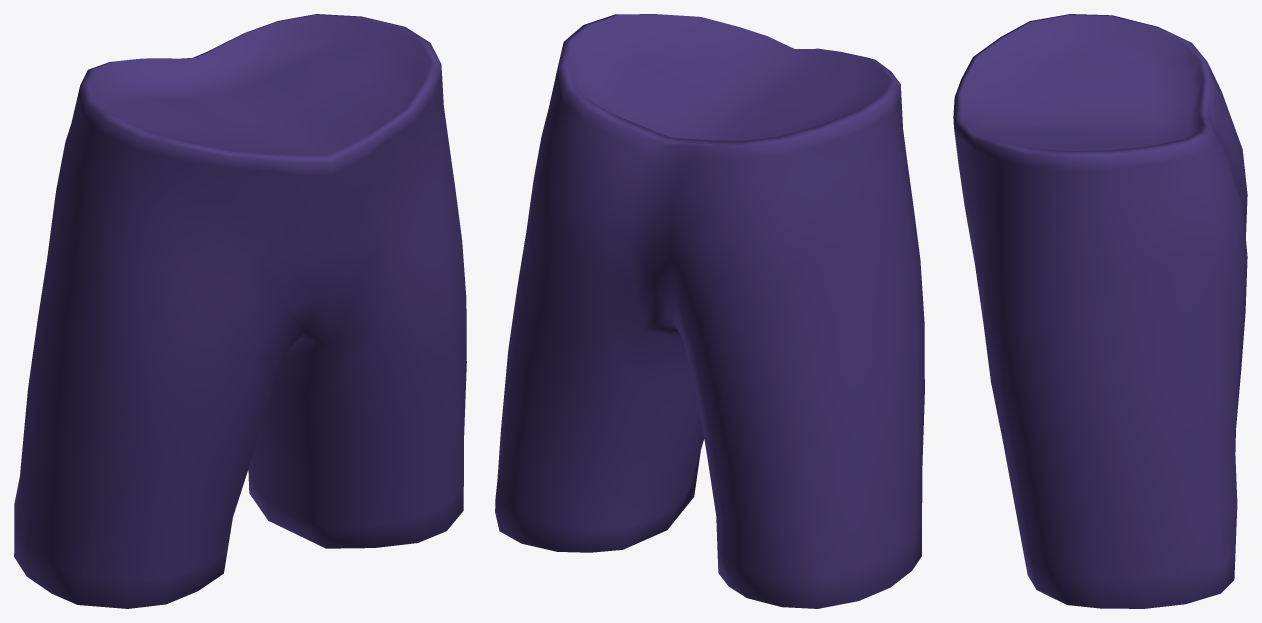
Rendered from simple_short_pants.fbx.
3 renders of one model, left to right at view 1: azimuth 30°, elevation 25°; view 2: azimuth 150°, elevation 25°; view 3: azimuth 270°, elevation 25°, orthographic. The views are drawn at different scales.
Parts seen in each view (by area): view 1: polySurface9; view 2: polySurface9; view 3: polySurface9.
Part boxes in pixels (left/top/right/bottom): polySurface9: left=14, top=14, right=466, bottom=608; polySurface9: left=495, top=14, right=924, bottom=608; polySurface9: left=953, top=14, right=1247, bottom=608.
Size of the model in its own units: 40.16 by 45.36 by 27.74.
